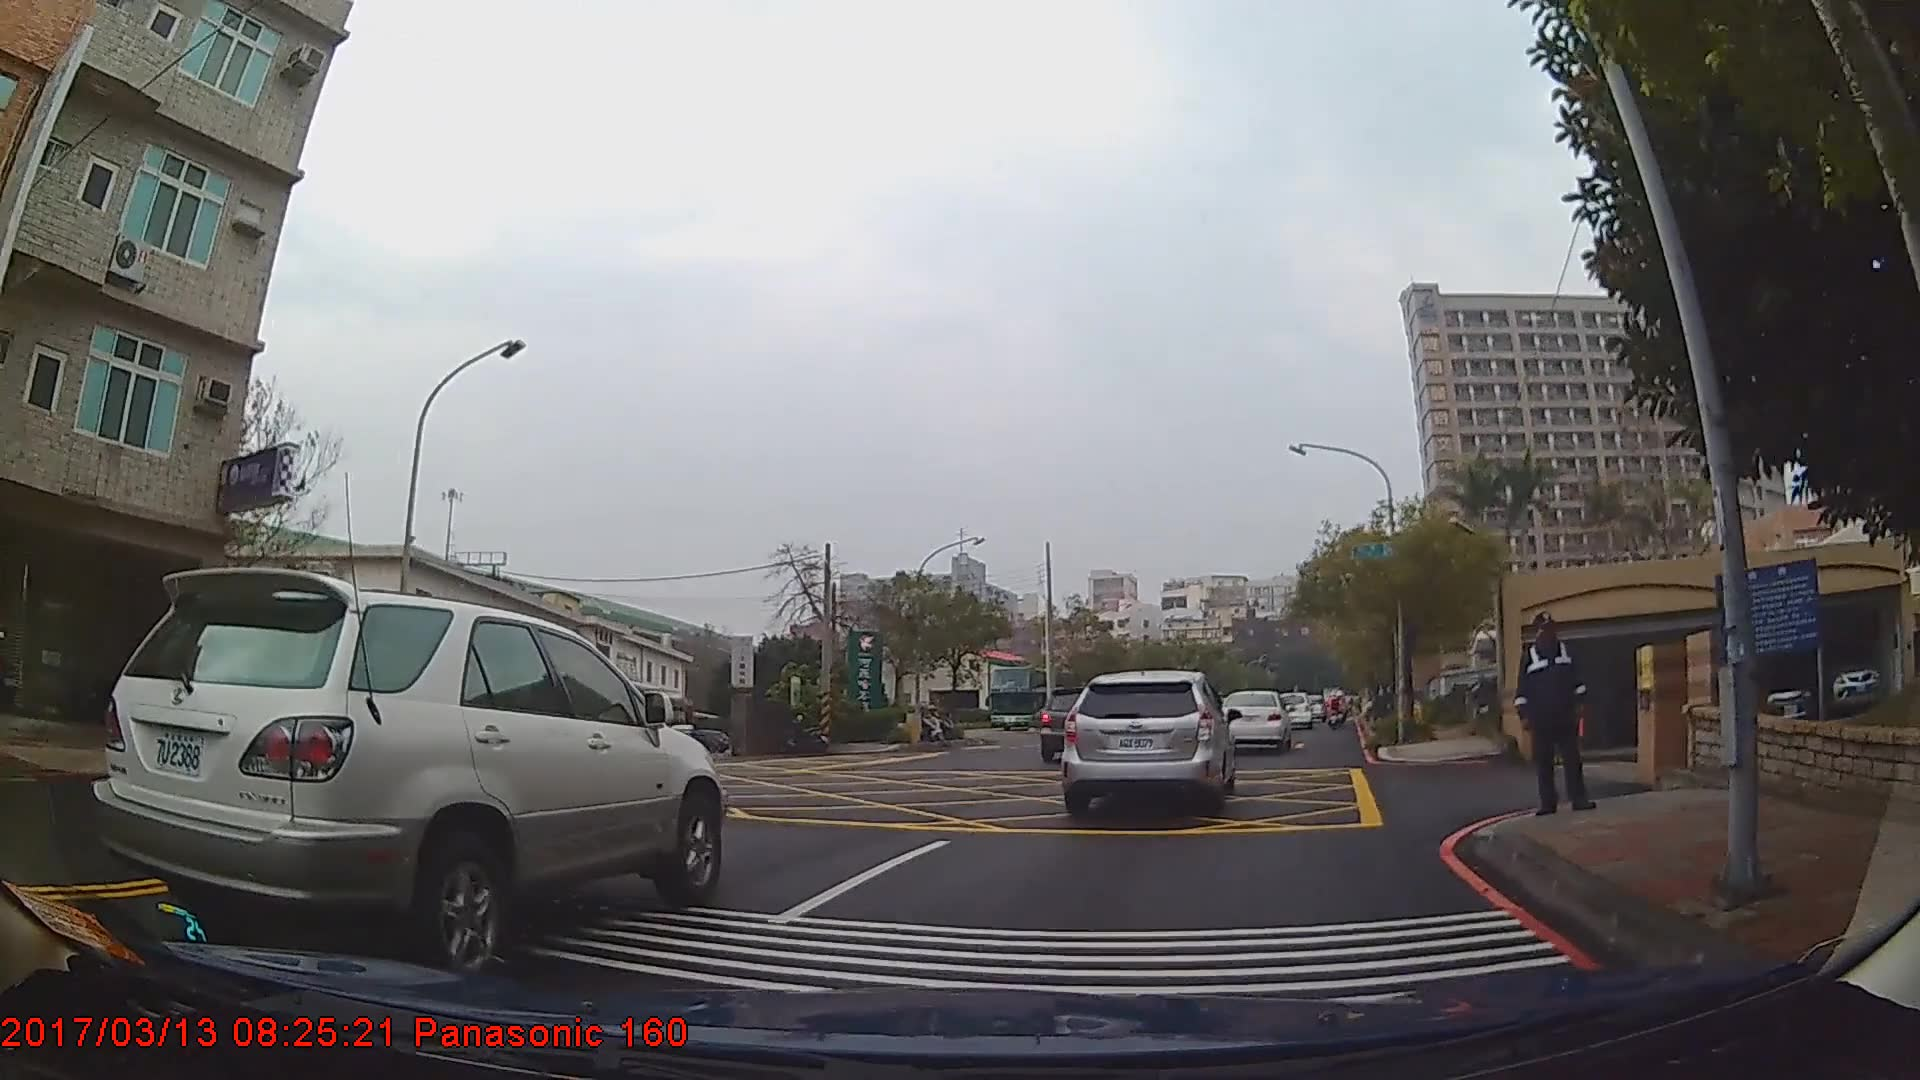pedestrian: (1515, 606, 1595, 815)
vehicle: (88, 557, 723, 974), (1063, 663, 1237, 812), (1217, 688, 1293, 752), (1278, 686, 1314, 726)
